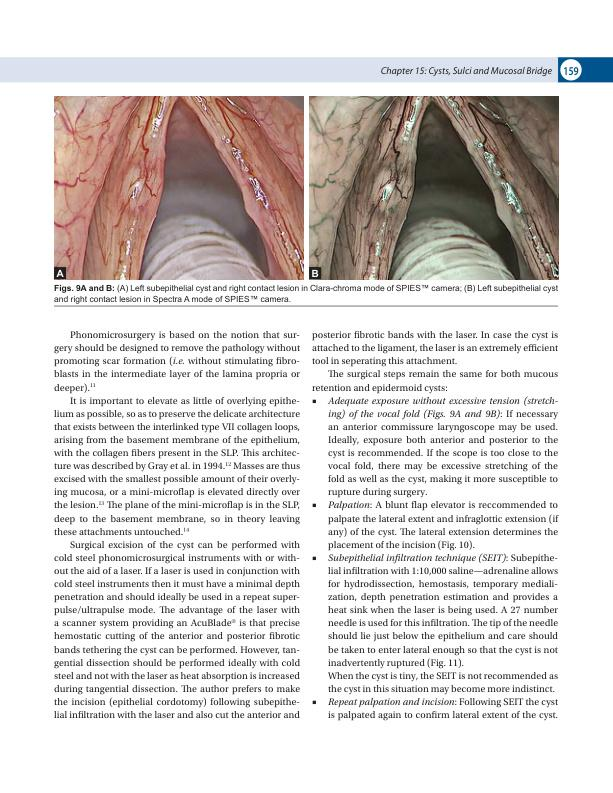caption: (52, 283, 560, 304), (311, 268, 320, 279), (55, 269, 65, 277)
header: (380, 66, 554, 77)
image: (53, 94, 305, 281), (309, 95, 559, 280)
list: (310, 395, 560, 723)
text: (52, 329, 300, 721), (310, 329, 560, 395)
